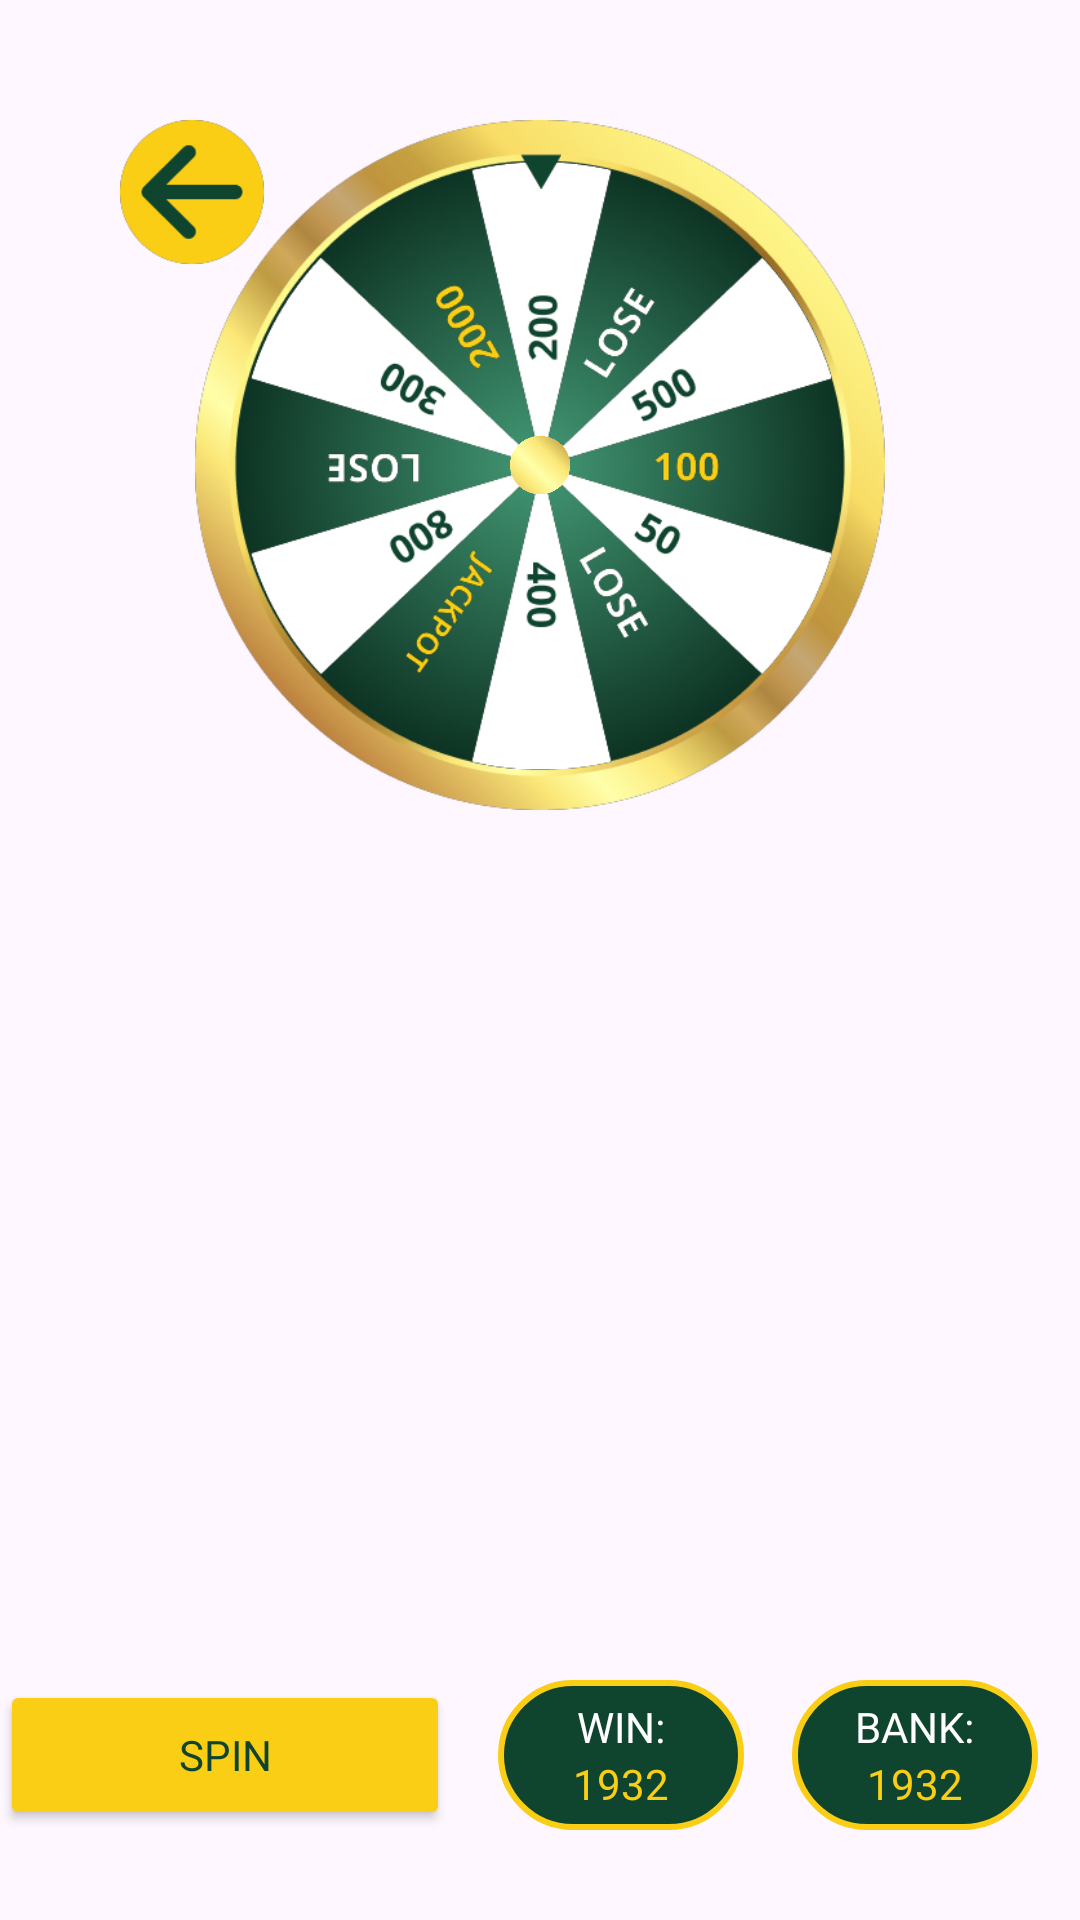

Where icons sit on this 1080x1920 app screen, as (x1, y1, x2, y2):
Back: (120, 120, 264, 264)
